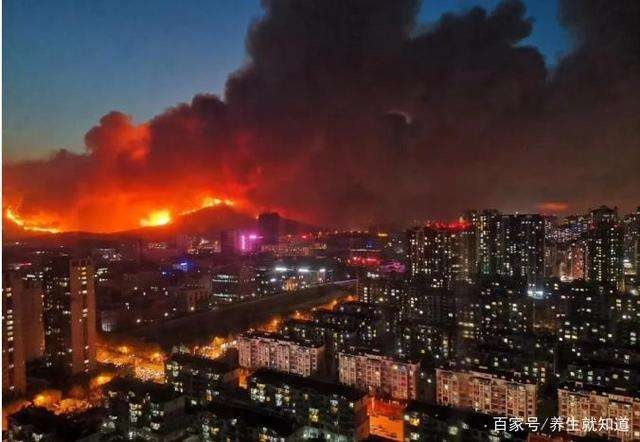fire: (133, 191, 241, 225), (5, 204, 78, 236)
